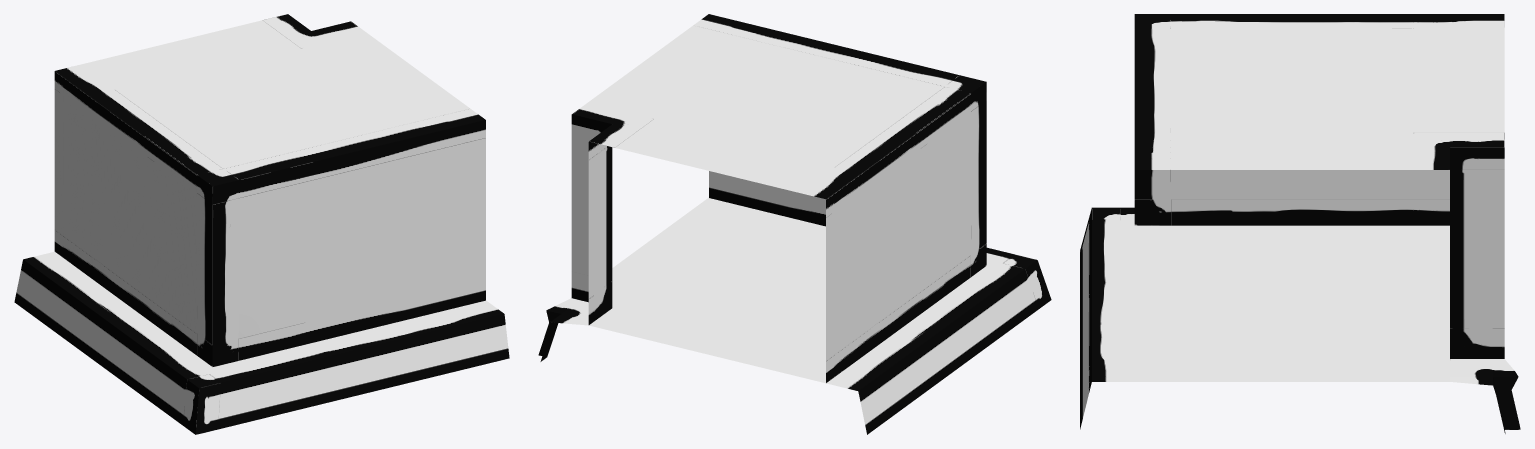
Rendered from 2 Sides corner Building.fbx.
3 renders of one model, left to right at view 1: azimuth 30°, elevation 25°; view 2: azimuth 150°, elevation 25°; view 3: azimuth 270°, elevation 25°, orthographic. The views are drawn at different scales.
Visible parts, largest first — view 1: 2 Sides connected House, 2 Sides Ground; view 2: 2 Sides connected House, 2 Sides Ground; view 3: 2 Sides connected House, 2 Sides Ground.
Boxes of the visible parts, x1=… form: 2 Sides connected House: x1=54, y1=14, x2=485, y2=366; 2 Sides Ground: x1=14, y1=251, x2=509, y2=434; 2 Sides connected House: x1=571, y1=14, x2=986, y2=382; 2 Sides Ground: x1=538, y1=197, x2=1051, y2=434; 2 Sides connected House: x1=1134, y1=14, x2=1504, y2=358; 2 Sides Ground: x1=1080, y1=207, x2=1520, y2=433.
Size of the model in its own units: 206 by 135 by 208.
